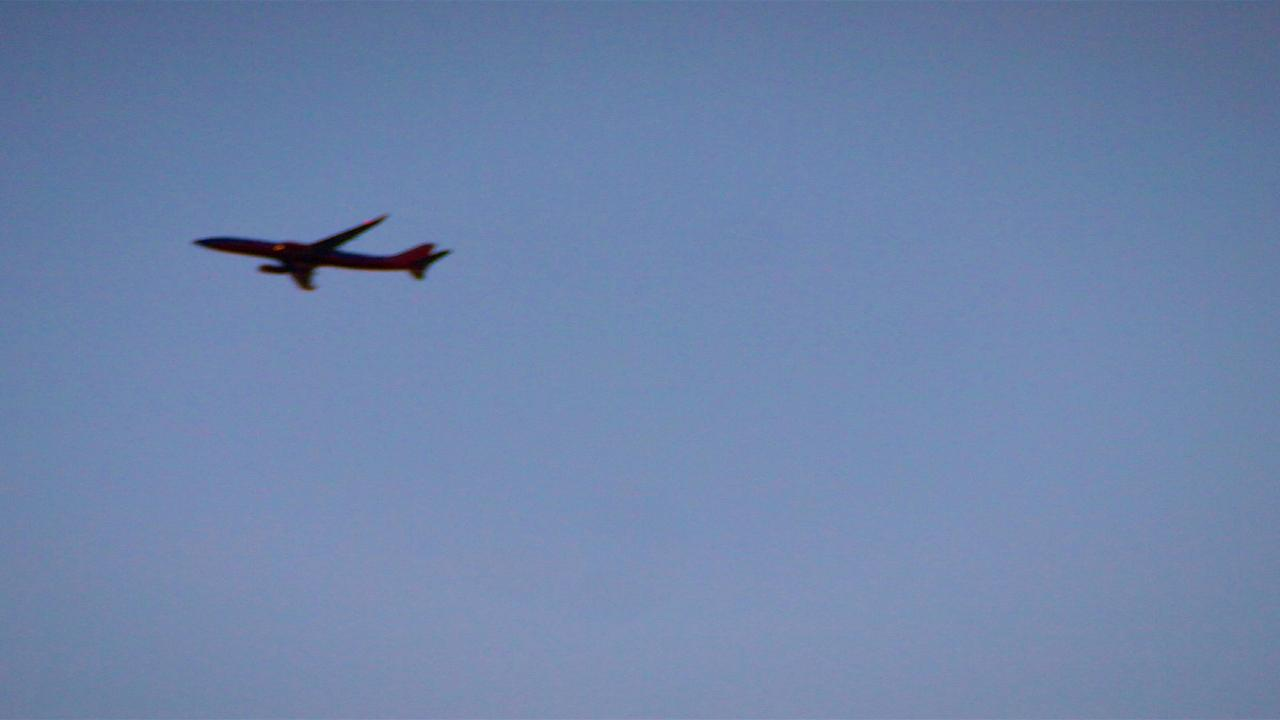Airplane: (161, 196, 484, 304)
